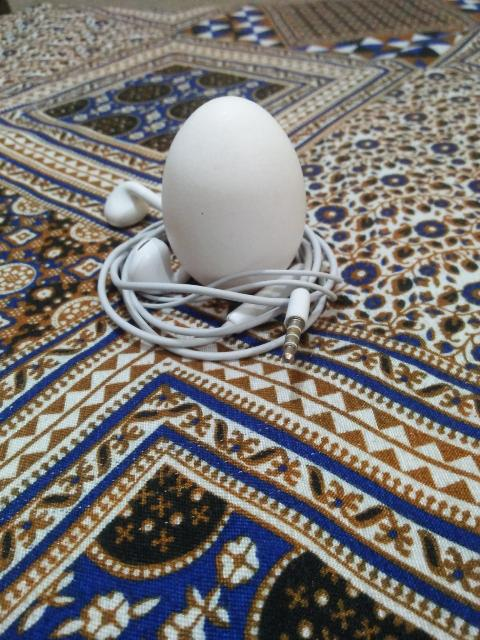Sano: (161, 94, 307, 293)
